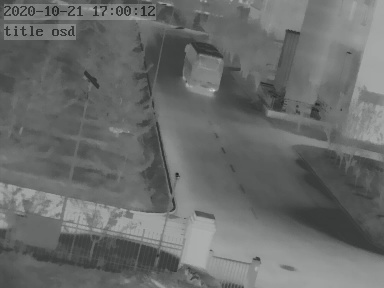vehicle: (181, 41, 227, 95)
